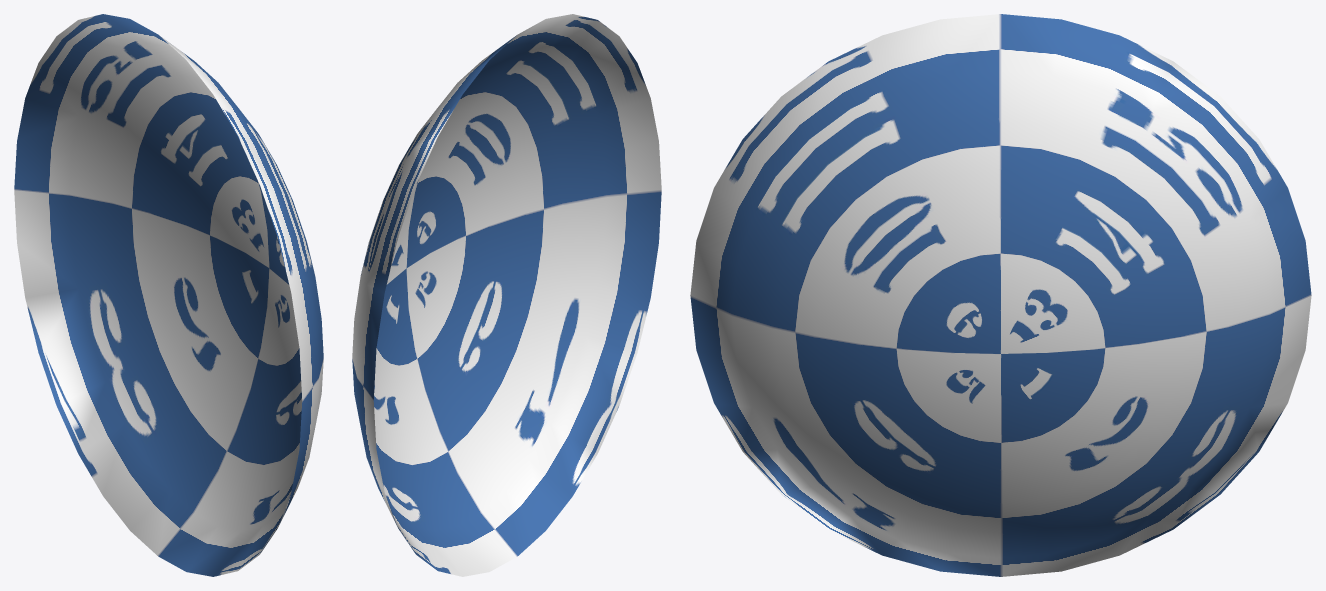
File: Akaza_Fist3.fbx
The picture shows the model from 3 angles, left to right: view 1: azimuth 30°, elevation 25°; view 2: azimuth 150°, elevation 25°; view 3: azimuth 270°, elevation 25°; orthographic projection. The views are drawn at different scales.
Parts seen in each view (by area): view 1: SM_e_Plc_P1012_Fist003_02; view 2: SM_e_Plc_P1012_Fist003_02; view 3: SM_e_Plc_P1012_Fist003_02.
Boxes of the visible parts, bbox=[...] form: SM_e_Plc_P1012_Fist003_02: bbox=[14, 14, 323, 576]; SM_e_Plc_P1012_Fist003_02: bbox=[352, 14, 661, 576]; SM_e_Plc_P1012_Fist003_02: bbox=[690, 14, 1311, 576].
Size of the model in its own units: 22.2 by 99.59 by 99.59.
